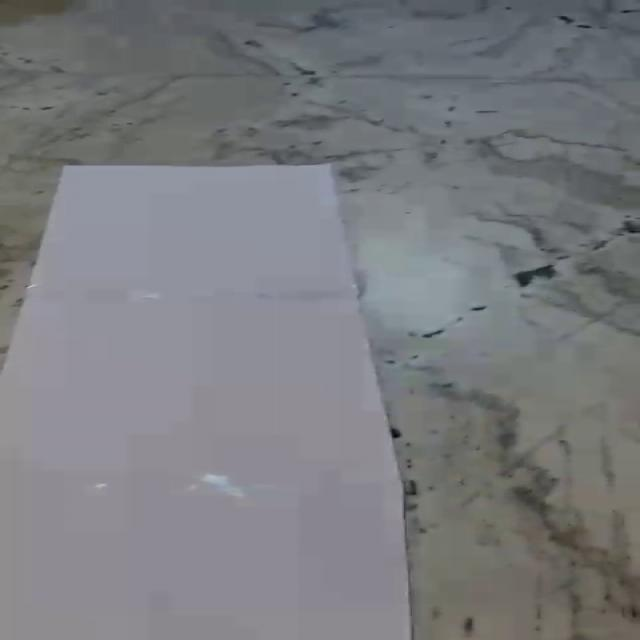road: (0, 163, 412, 640)
